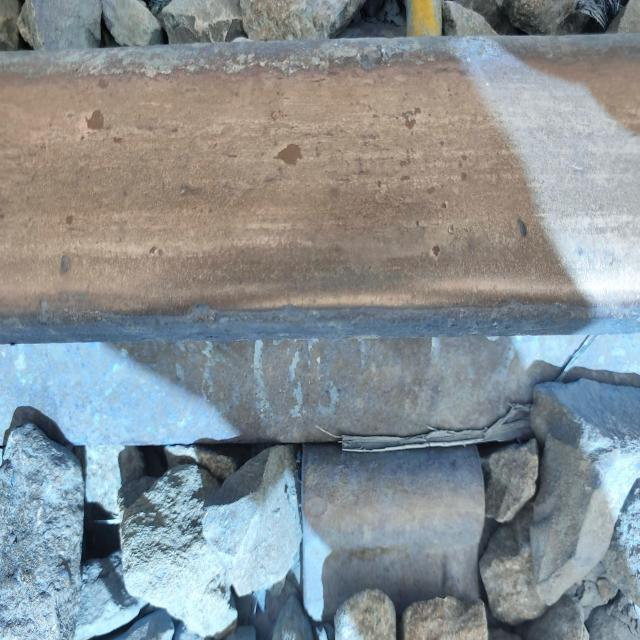Missing Fastener: (302, 444, 485, 620)
